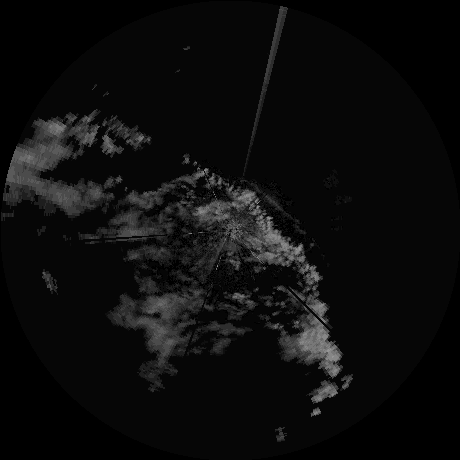frontgust: (246, 179, 301, 229)
